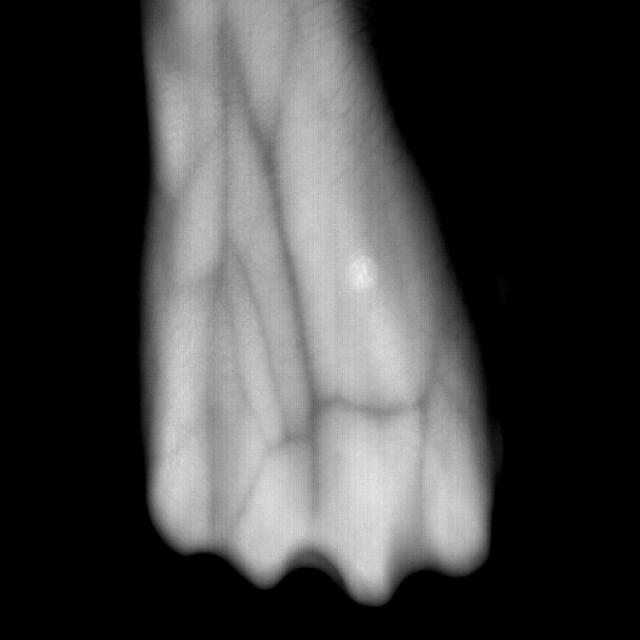Vein: (215, 23, 321, 464)
